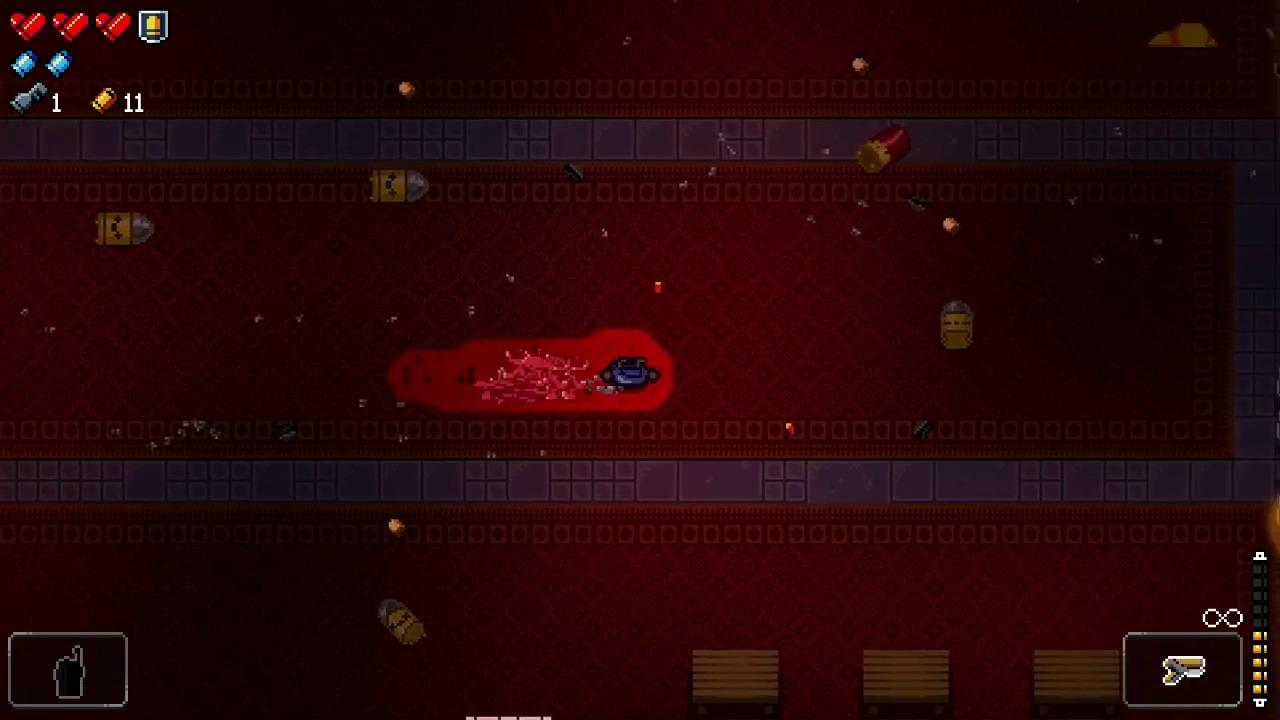dead_apprentice_gunjurer: (1150, 23, 1221, 47)
dead_bullet_kin: (378, 598, 428, 646), (368, 168, 431, 204), (96, 210, 156, 245), (942, 301, 975, 351)
dead_red_shotgun_kin: (854, 124, 912, 175)
player: (605, 353, 652, 393)
table: (692, 650, 779, 714), (863, 649, 948, 714), (1035, 651, 1119, 714)
